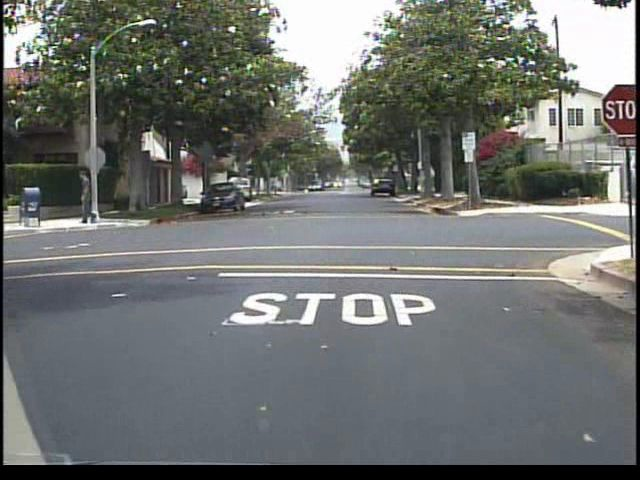person: (74, 163, 104, 228)
